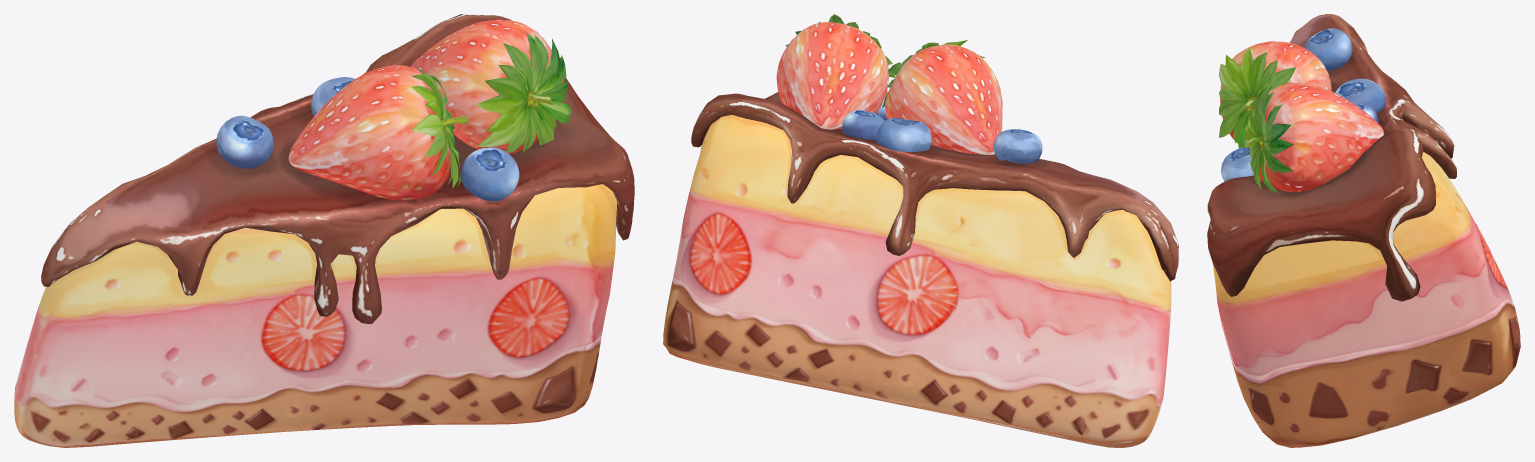
File: cake5.glb
3 renders of one model, left to right at view 1: azimuth 30°, elevation 25°; view 2: azimuth 150°, elevation 25°; view 3: azimuth 270°, elevation 25°, orthographic. The views are drawn at different scales.
Parts seen in each view (by area): view 1: cake001, frosting001, strawberry001, berries001, leaves004, leaves003, blueberry001; view 2: cake001, frosting001, berries001, strawberry001; view 3: cake001, frosting001, berries001, leaves003, leaves004, strawberry001, blueberry001.
Part boxes in pixels (x1,y1,x2,y2): cake001: (14, 184, 617, 447); frosting001: (41, 14, 634, 324); strawberry001: (288, 65, 450, 200); berries001: (216, 19, 564, 168); leaves004: (476, 32, 572, 152); leaves003: (410, 66, 468, 188); blueberry001: (461, 147, 519, 201); cake001: (663, 115, 1171, 447); frosting001: (691, 92, 1178, 281); berries001: (776, 22, 1042, 163); strawberry001: (885, 44, 1002, 154); cake001: (1213, 119, 1520, 447); frosting001: (1207, 14, 1456, 301); berries001: (1259, 28, 1386, 191); leaves003: (1218, 47, 1296, 148); leaves004: (1244, 85, 1293, 192); strawberry001: (1220, 41, 1331, 142); blueberry001: (1221, 147, 1253, 181).
Bounding box in the file's own units: 0.6448 × 0.4507 × 0.3832.
Materials: 1 (1 with a texture image).
